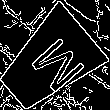M_SW: (16, 28, 82, 96)
